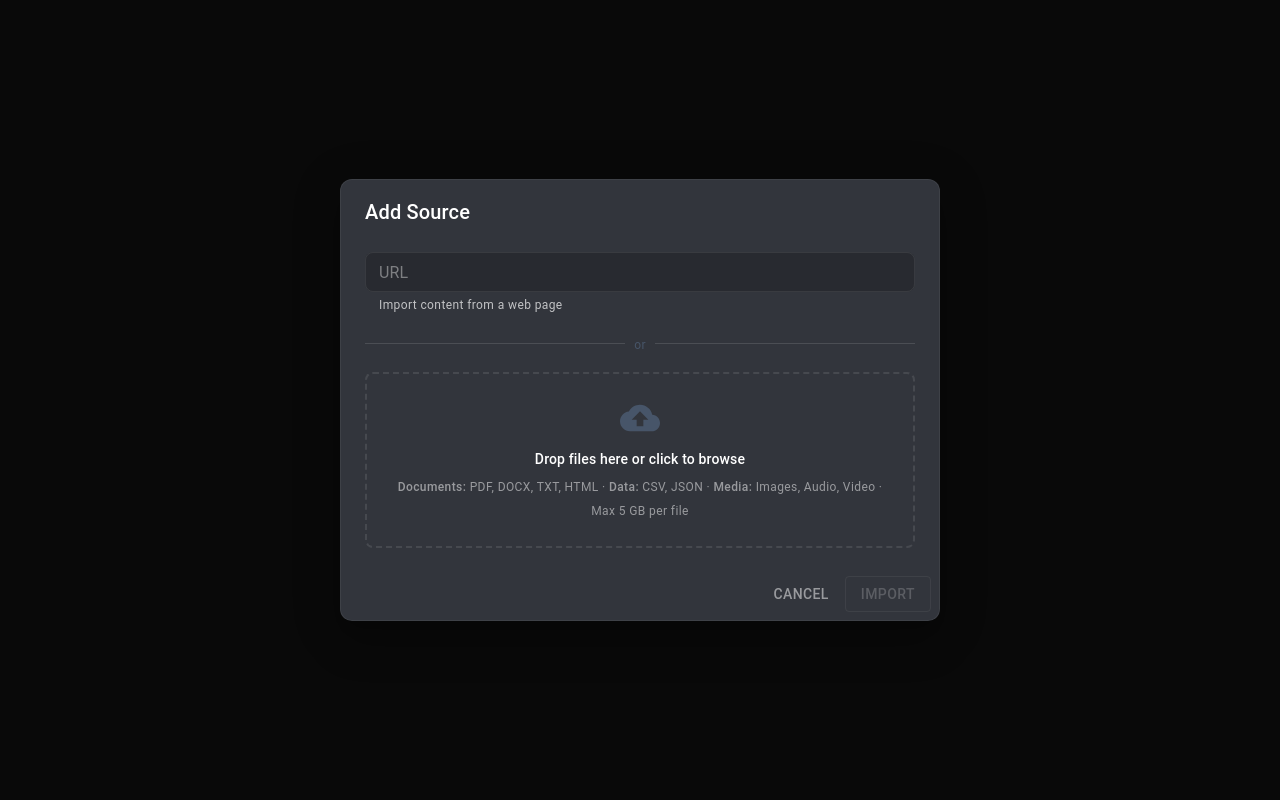
Test: <UploadDialog /> site offer › shows that the check is running
The image size is (1280, 800).
Type "https://docs.example.com/docs" into the field labelled "URL" at (640, 272), box [365,252,915,292]
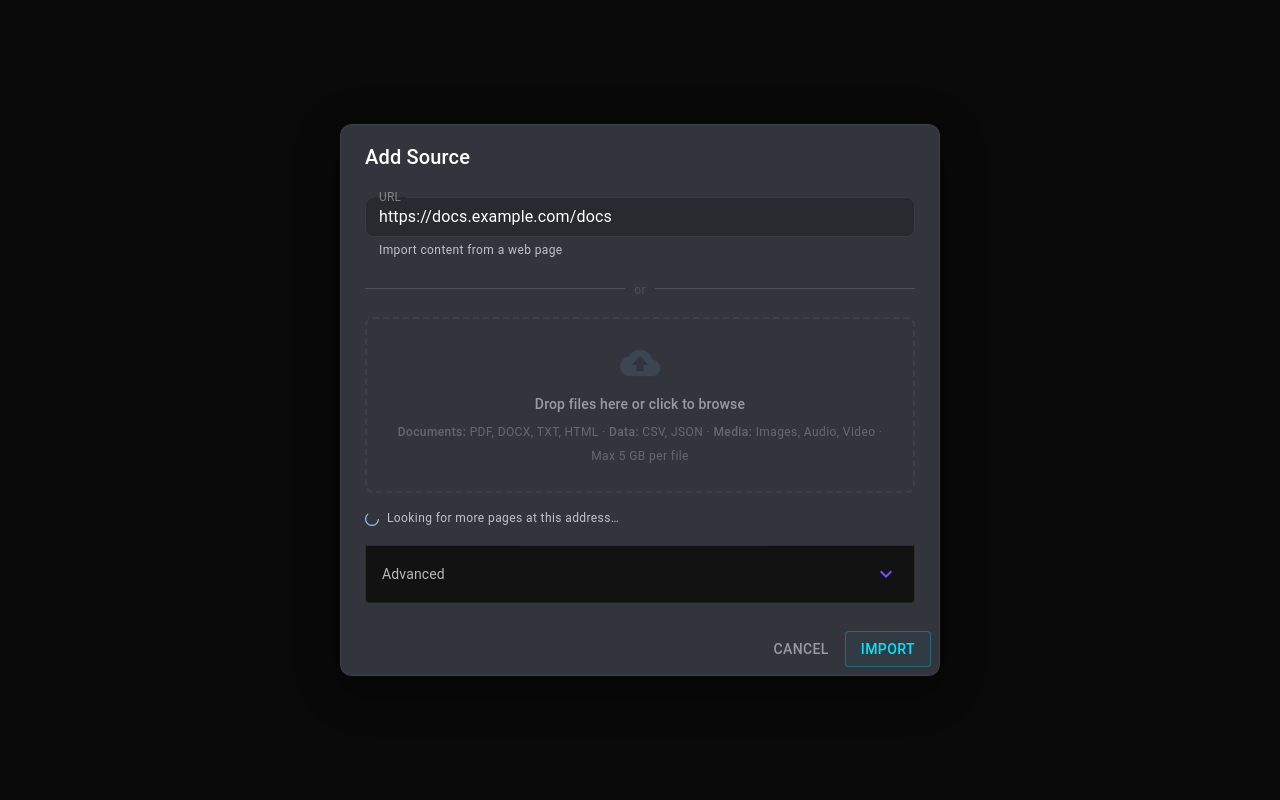
Expected: the text "Looking for more pages at this address…" is shown, [387,509,619,529]
Expected: the button "Import" is enabled, [845,631,931,667]
